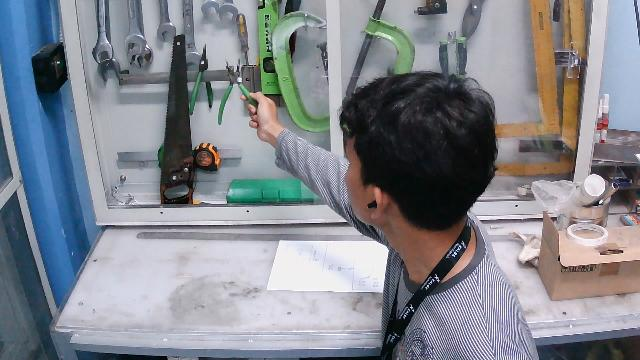tang_cucut_lancip_1: (215, 53, 261, 132)
